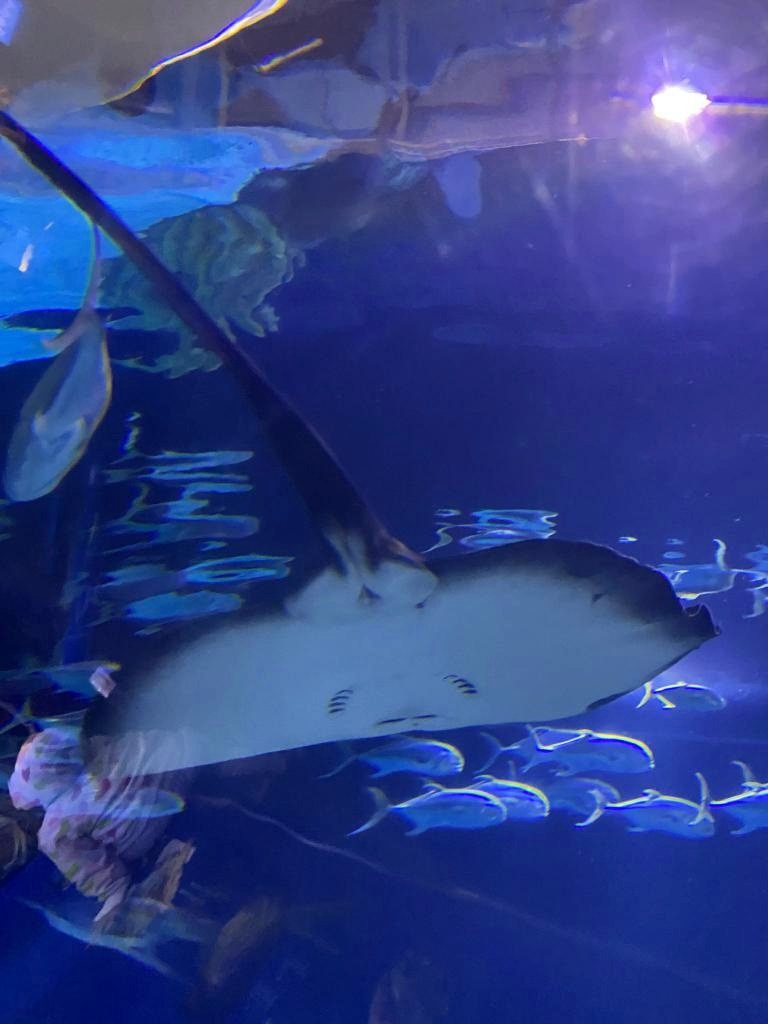fish: (1, 218, 111, 500), (343, 784, 507, 836), (574, 786, 714, 840), (315, 732, 463, 780), (524, 725, 654, 775), (472, 725, 580, 775), (688, 772, 766, 834), (460, 774, 548, 824), (636, 679, 728, 711)
stingray: (79, 534, 716, 780)
